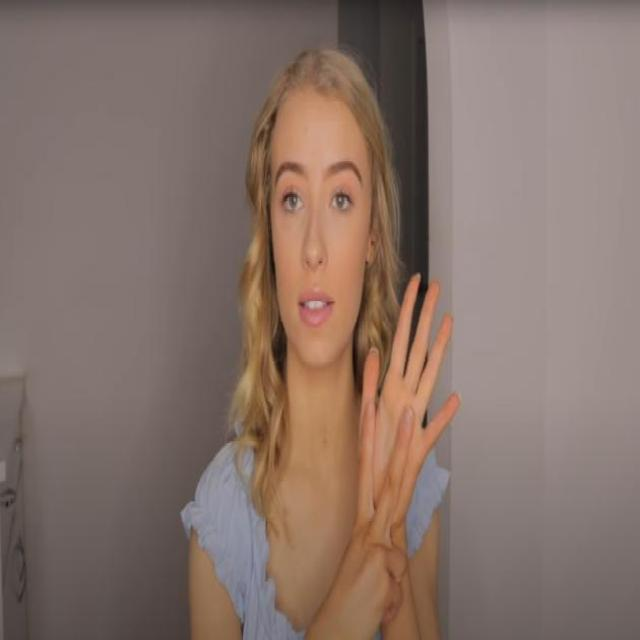V: (345, 257, 470, 639)
